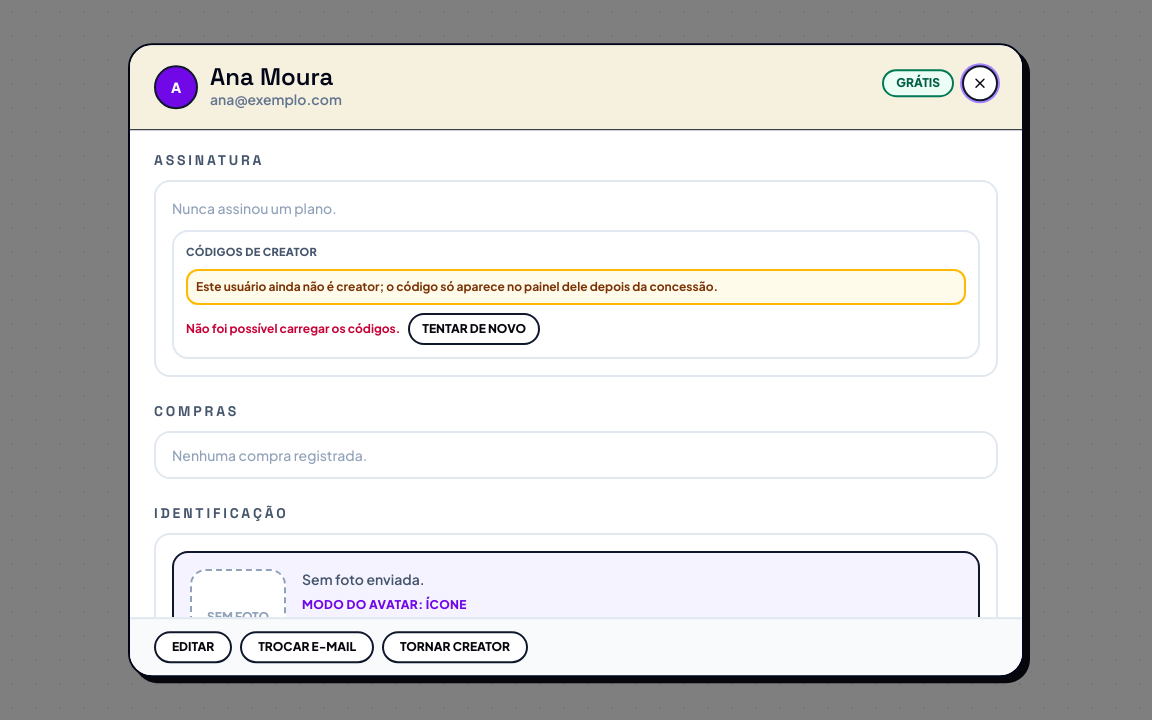
Test: guarda de alteracao nao salva no funil requestClose › Esc COM alteracao nao salva pede confirmacao em vez de descartar
Click the button "Editar" at x=193, y=647, box [154,631,232,663]
(page scrolled)
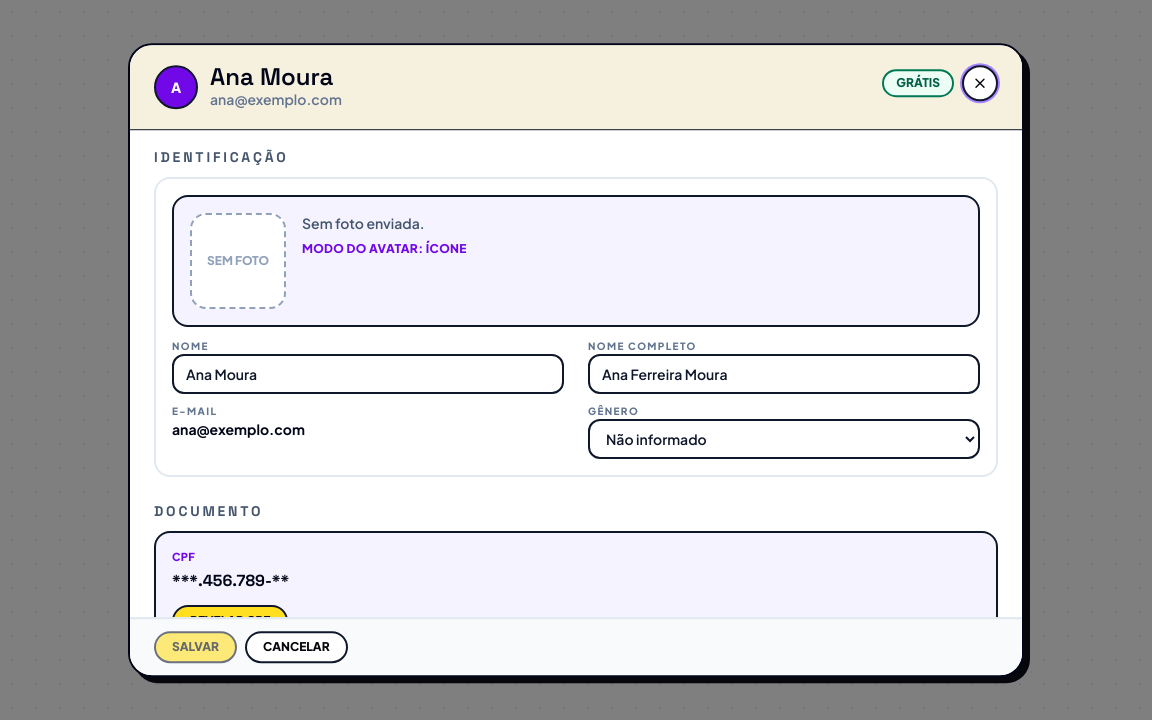
Replace the text in the field labelled "Nome" with "Ana Paula" at x=368, y=374, box [172,354,564,394]
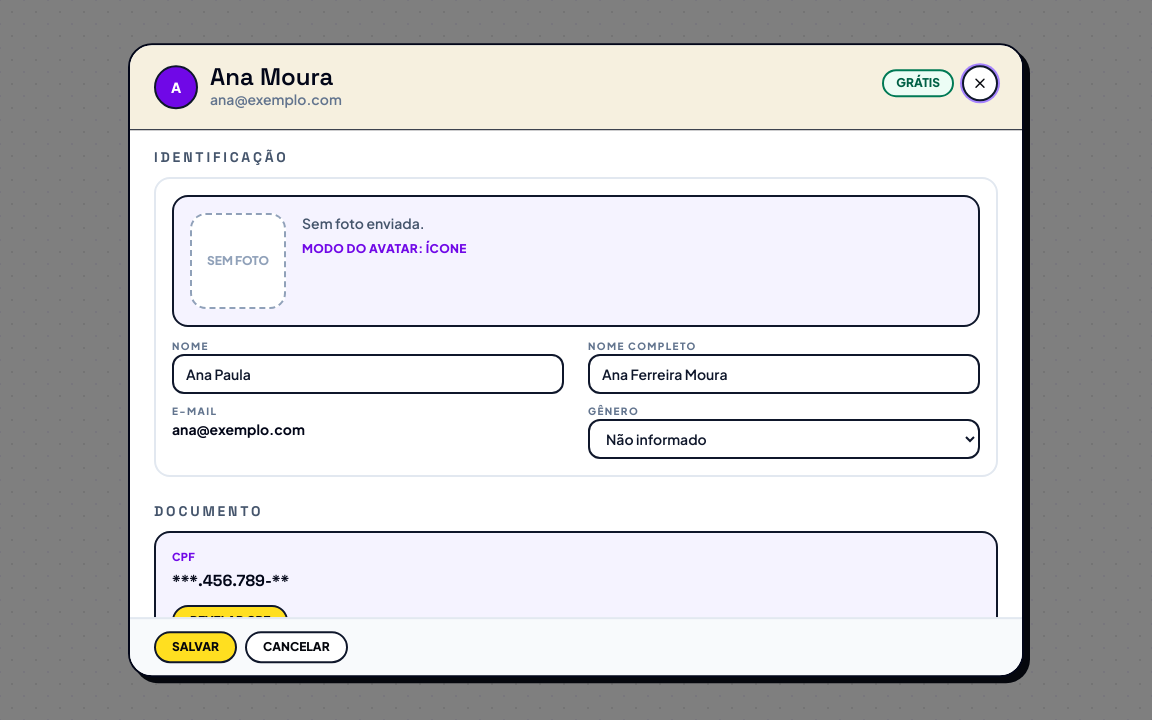
Press Escape in the button named "Fechar", box [962,65,998,101]
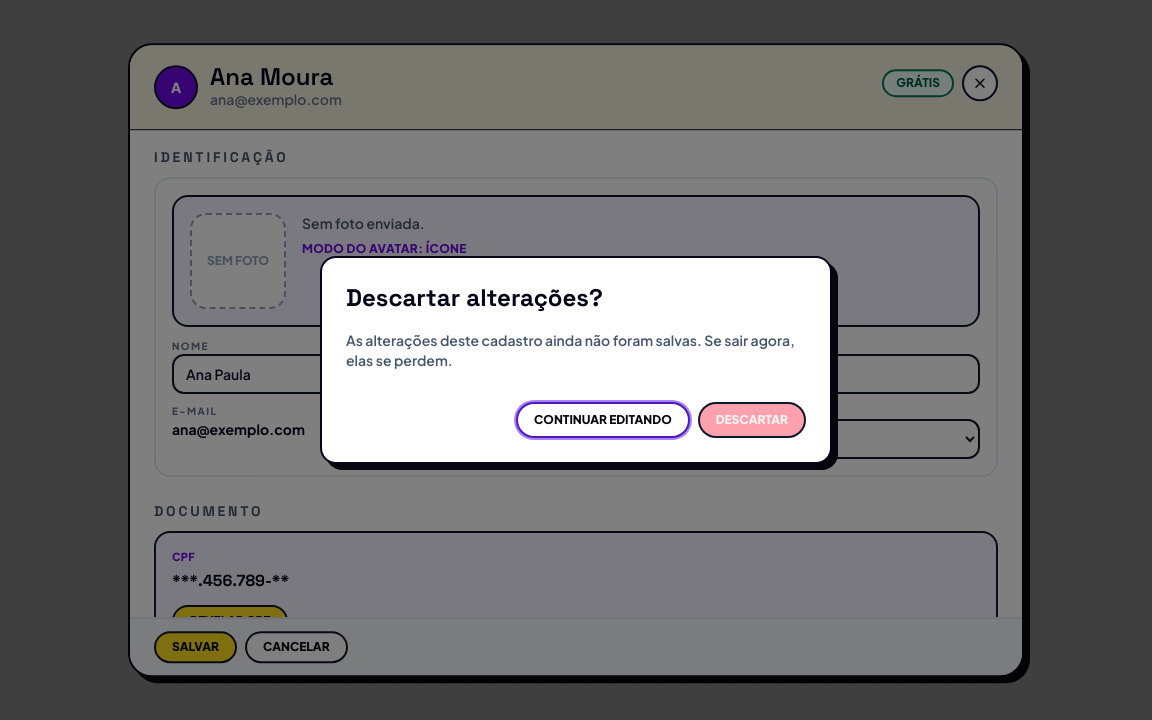
Result: the heading "Descartar alterações?" is shown at [346,282,603,313]
